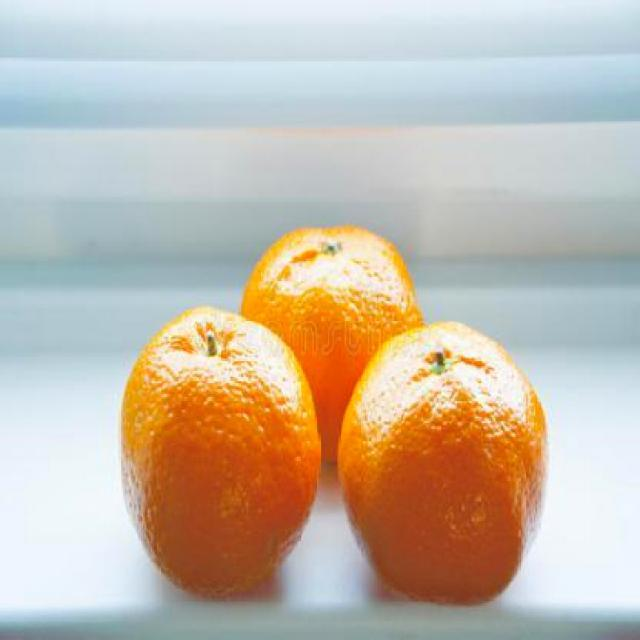Jeruk Sudah Matang: (338, 321, 552, 614), (112, 308, 320, 597), (236, 224, 429, 463)
